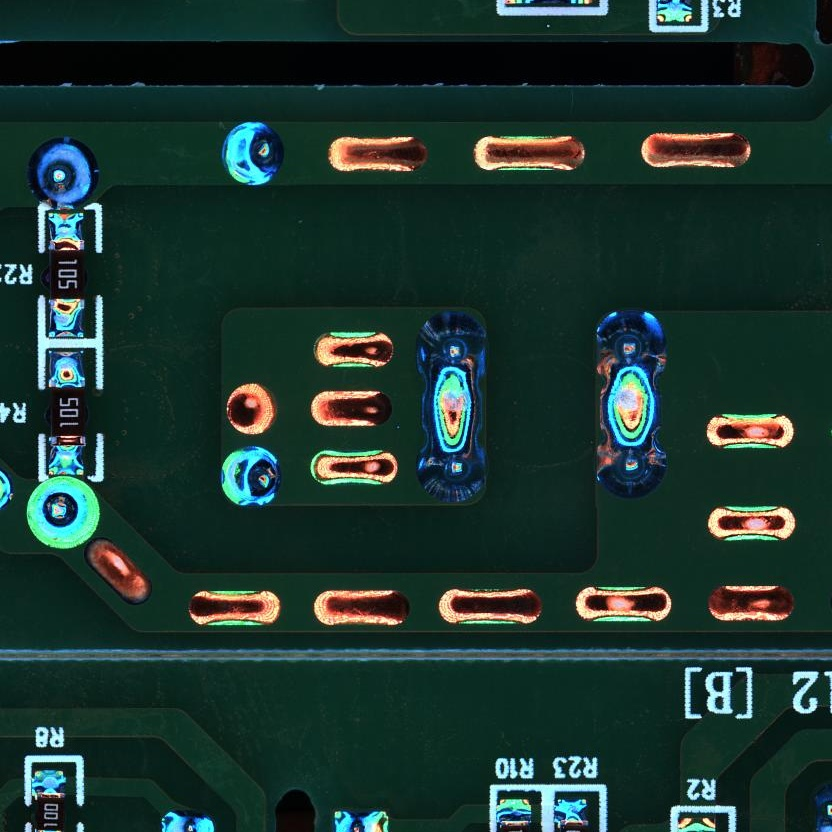spot: (23, 474, 102, 551), (25, 135, 102, 209), (219, 119, 285, 188), (217, 444, 281, 509)
